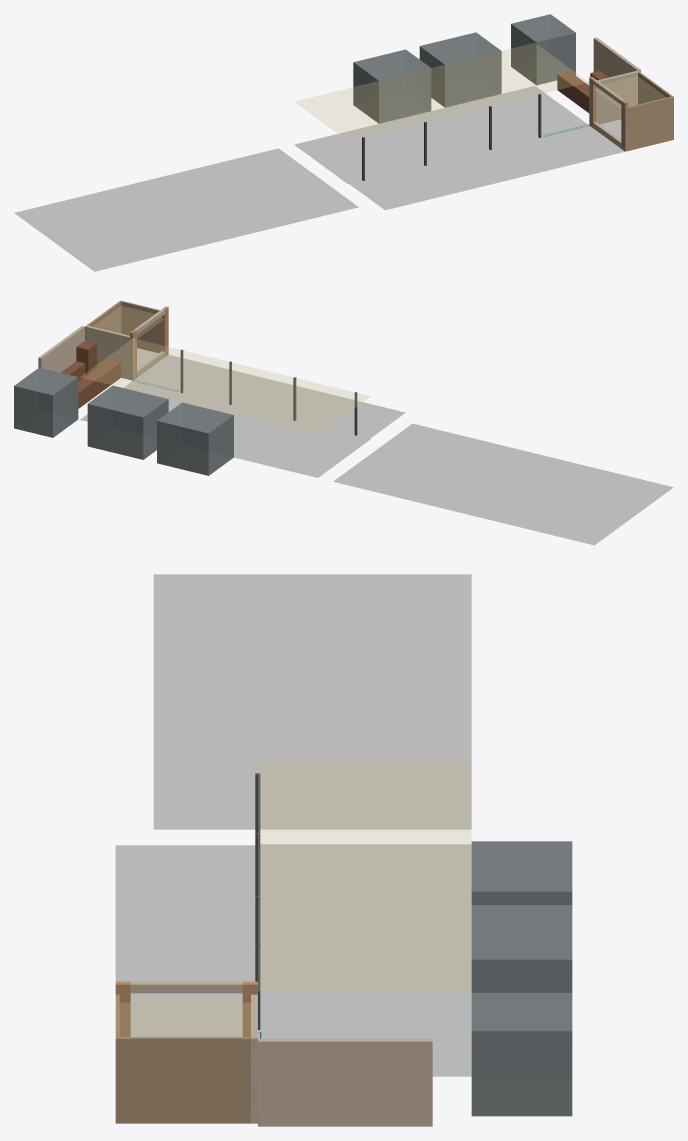
The model's file is rooftop_truth_model_v01_mm.obj.
3 views of the same model, one above another, from view 1: azimuth 30°, elevation 25°; view 2: azimuth 150°, elevation 25°; view 3: azimuth 270°, elevation 25° (orthographic). The views are drawn at different scales.
Visible parts, largest first — view 1: west_unroofed_terrace, ceiling_level_2_main, main_hall_floor, south_mountain_terrace_band, core_toilet, core_stair, core_elevator, east_transition_floor, tea_terrace_boundary_wall, tea_bar_shared_wall, ceiling_level_1_tea_room, equipment_background_wall (+2 smaller); view 2: west_unroofed_terrace, ceiling_level_2_main, south_mountain_terrace_band, main_hall_floor, core_toilet, core_stair, core_elevator, tea_bar_shared_wall, tea_terrace_boundary_wall, equipment_background_wall, ceiling_level_1_tea_room, bar_body_fixed_run (+3 smaller); view 3: west_unroofed_terrace, ceiling_level_2_main, main_hall_floor, south_mountain_terrace_band, equipment_background_wall, core_elevator, tea_background_wall, core_stair, core_toilet, ceiling_level_1_tea_room, east_transition_floor, tea_window_head_wall (+1 smaller).
Part boxes in pixels (x1,y1,x2,y2): west_unroofed_terrace: [14, 148, 358, 271]; ceiling_level_2_main: [294, 43, 588, 140]; main_hall_floor: [294, 97, 543, 183]; south_mountain_terrace_band: [349, 125, 624, 210]; core_toilet: [353, 49, 431, 123]; core_stair: [419, 32, 501, 107]; core_elevator: [511, 14, 575, 85]; east_transition_floor: [490, 86, 588, 136]; tea_terrace_boundary_wall: [624, 96, 673, 151]; tea_bar_shared_wall: [589, 70, 639, 126]; ceiling_level_1_tea_room: [594, 76, 665, 108]; equipment_background_wall: [593, 37, 640, 77]; west_unroofed_terrace: [333, 423, 673, 545]; ceiling_level_2_main: [80, 338, 370, 434]; south_mountain_terrace_band: [133, 355, 405, 438]; main_hall_floor: [168, 392, 370, 477]; core_toilet: [157, 402, 233, 475]; core_stair: [87, 385, 168, 459]; core_elevator: [14, 367, 78, 437]; tea_bar_shared_wall: [85, 325, 134, 380]; tea_terrace_boundary_wall: [120, 300, 168, 353]; equipment_background_wall: [38, 326, 84, 372]; ceiling_level_1_tea_room: [93, 306, 163, 338]; bar_body_fixed_run: [78, 359, 120, 404]; west_unroofed_terrace: [153, 574, 471, 829]; ceiling_level_2_main: [258, 759, 471, 991]; main_hall_floor: [258, 844, 471, 1032]; south_mountain_terrace_band: [115, 845, 255, 1036]; equipment_background_wall: [258, 1038, 432, 1126]; core_elevator: [471, 993, 572, 1116]; tea_background_wall: [116, 1037, 257, 1123]; core_stair: [471, 905, 572, 992]; core_toilet: [471, 841, 572, 904]; ceiling_level_1_tea_room: [120, 1000, 250, 1036]; east_transition_floor: [258, 1032, 471, 1076]; tea_window_head_wall: [130, 981, 242, 993].
Bounding box in the file's own units: 37640 × 3020 × 13160.
